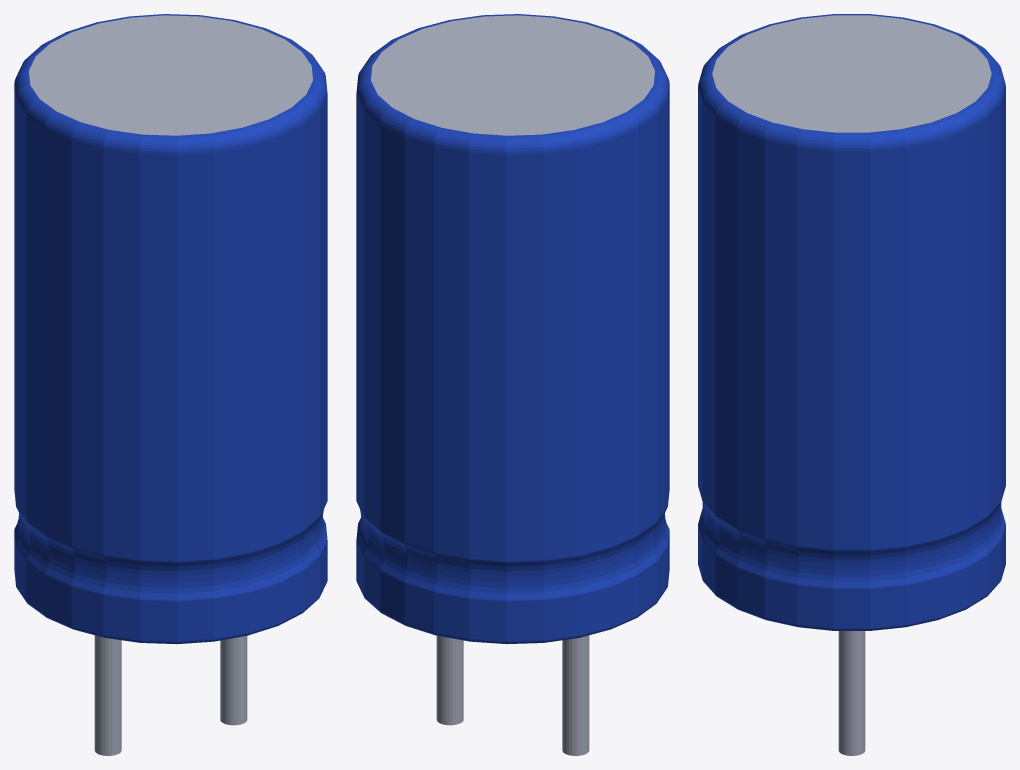
File: 06_Alum_P3mmXDia6p5mmXHei11p5mm.obj
3 views of the same model, side by side, from view 1: azimuth 30°, elevation 25°; view 2: azimuth 150°, elevation 25°; view 3: azimuth 270°, elevation 25° (orthographic). The views are drawn at different scales.
Parts seen in each view (by area): view 1: 06_Alum_P3mmXDia6p5mmXHei11p5mm; view 2: 06_Alum_P3mmXDia6p5mmXHei11p5mm; view 3: 06_Alum_P3mmXDia6p5mmXHei11p5mm.
Part boxes in pixels (x1,y1,x2,y2): 06_Alum_P3mmXDia6p5mmXHei11p5mm: (14,14,327,755); 06_Alum_P3mmXDia6p5mmXHei11p5mm: (356,14,669,755); 06_Alum_P3mmXDia6p5mmXHei11p5mm: (698,14,1005,755).
Bounding box in the file's own units: 0.00541 × 0.0126 × 0.00544.
